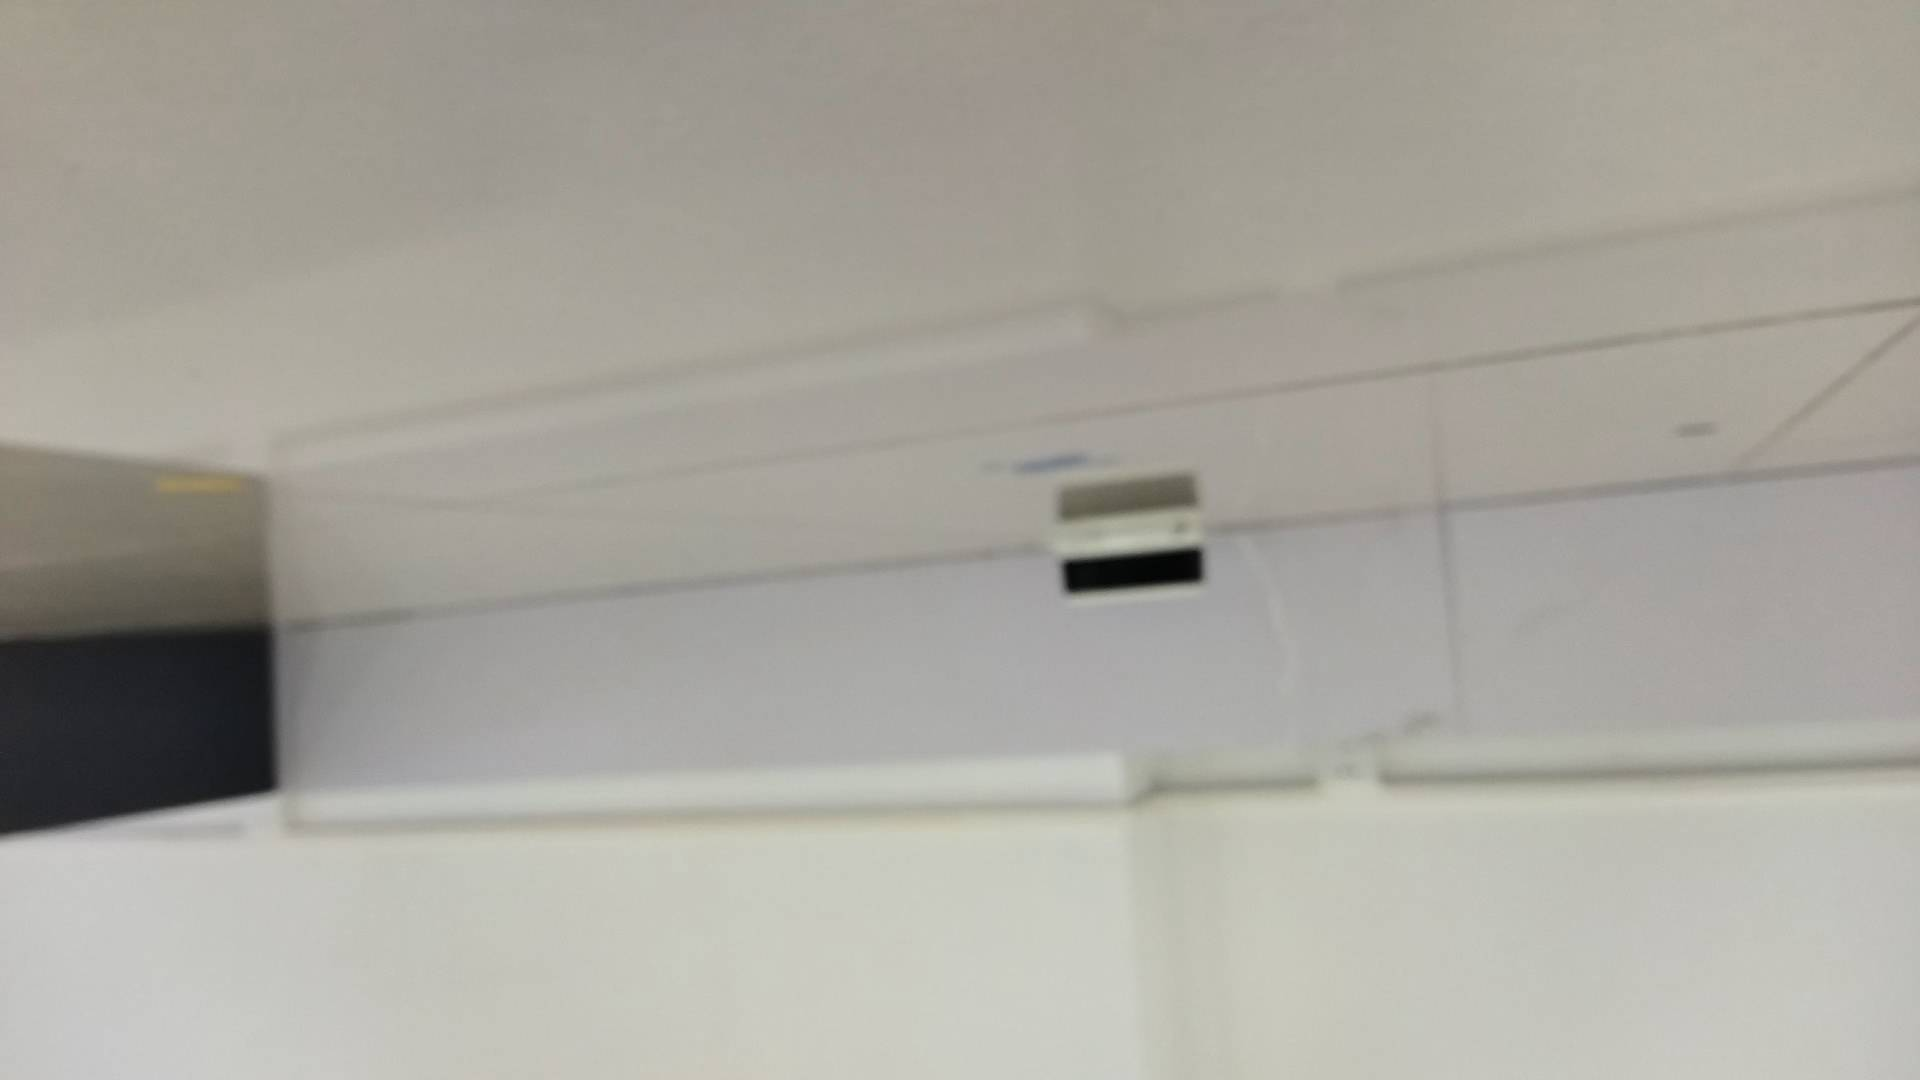recharge seat: (1044, 498, 1218, 617)
